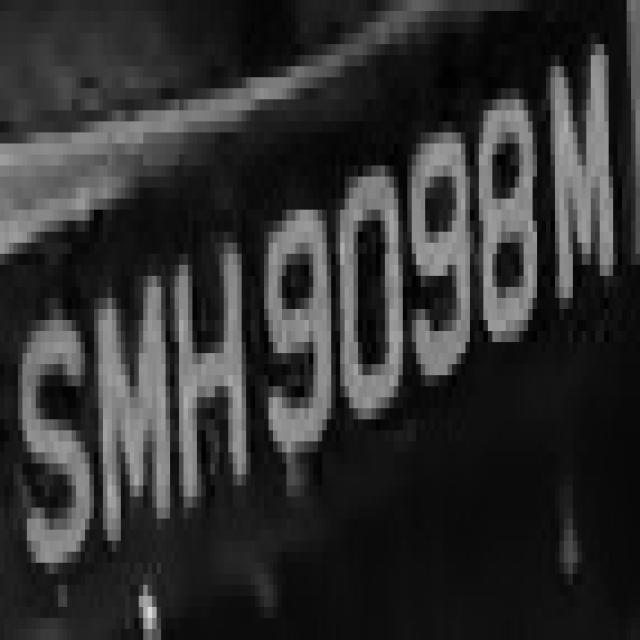0: (327, 154, 407, 442)
8: (474, 66, 550, 375)
9: (251, 176, 340, 474), (398, 66, 474, 397)
H: (161, 210, 260, 518)
M: (76, 220, 175, 562), (542, 33, 622, 342)
S: (9, 276, 98, 585)
